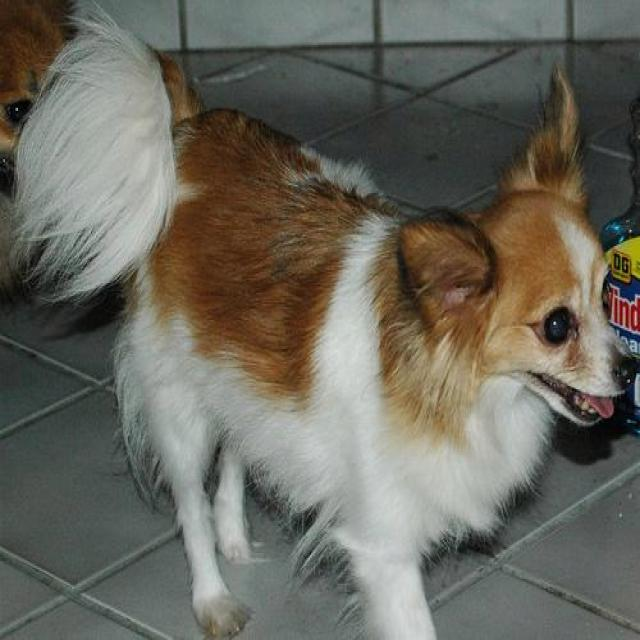papillon: (9, 4, 637, 638)
